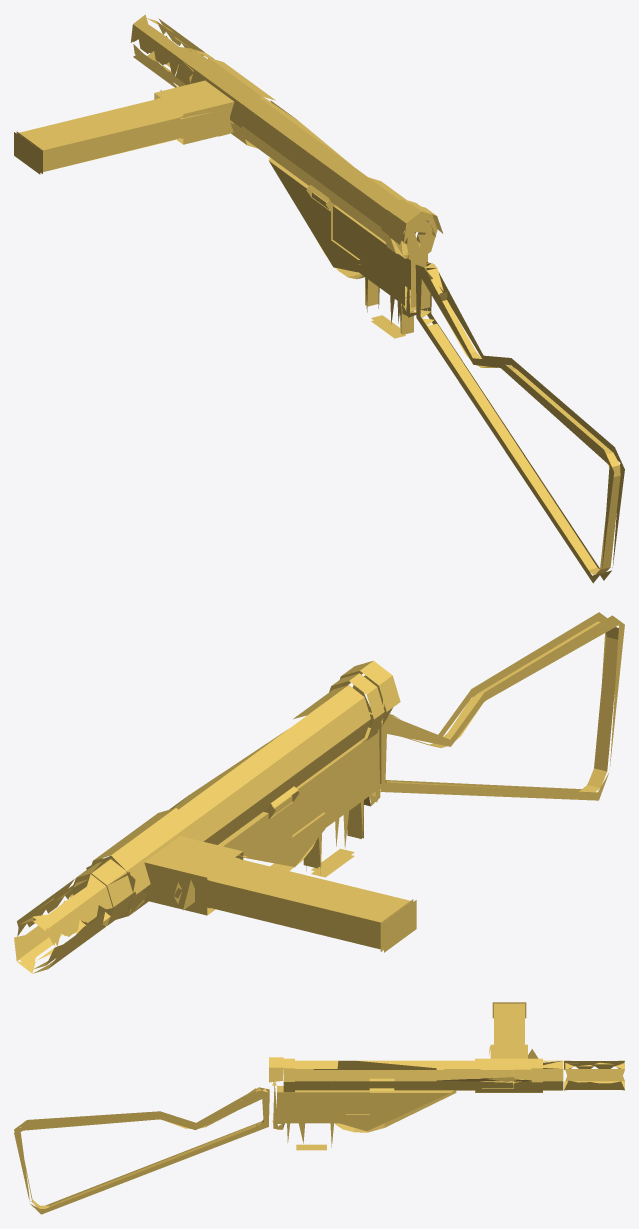
Rendered from charm_mst_subfusil_2.glb.
3 renders of one model, top to bottom at view 1: azimuth 30°, elevation 25°; view 2: azimuth 150°, elevation 25°; view 3: azimuth 270°, elevation 25°, orthographic. The views are drawn at different scales.
Parts seen in each view (by area): view 1: p0_paint; view 2: p0_paint; view 3: p0_paint.
Part boxes in pixels (x1,y1,x2,y2): p0_paint: [14, 14, 624, 583]; p0_paint: [14, 612, 624, 973]; p0_paint: [14, 1002, 624, 1214].
Size of the model in its own units: 0.1907 by 0.1915 by 0.6816.
